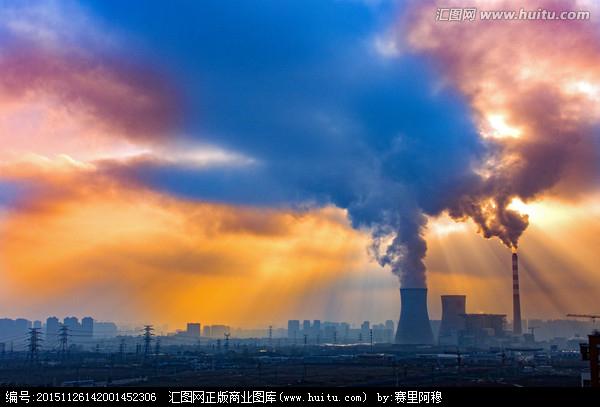dust: (359, 214, 437, 294), (473, 187, 531, 259)
